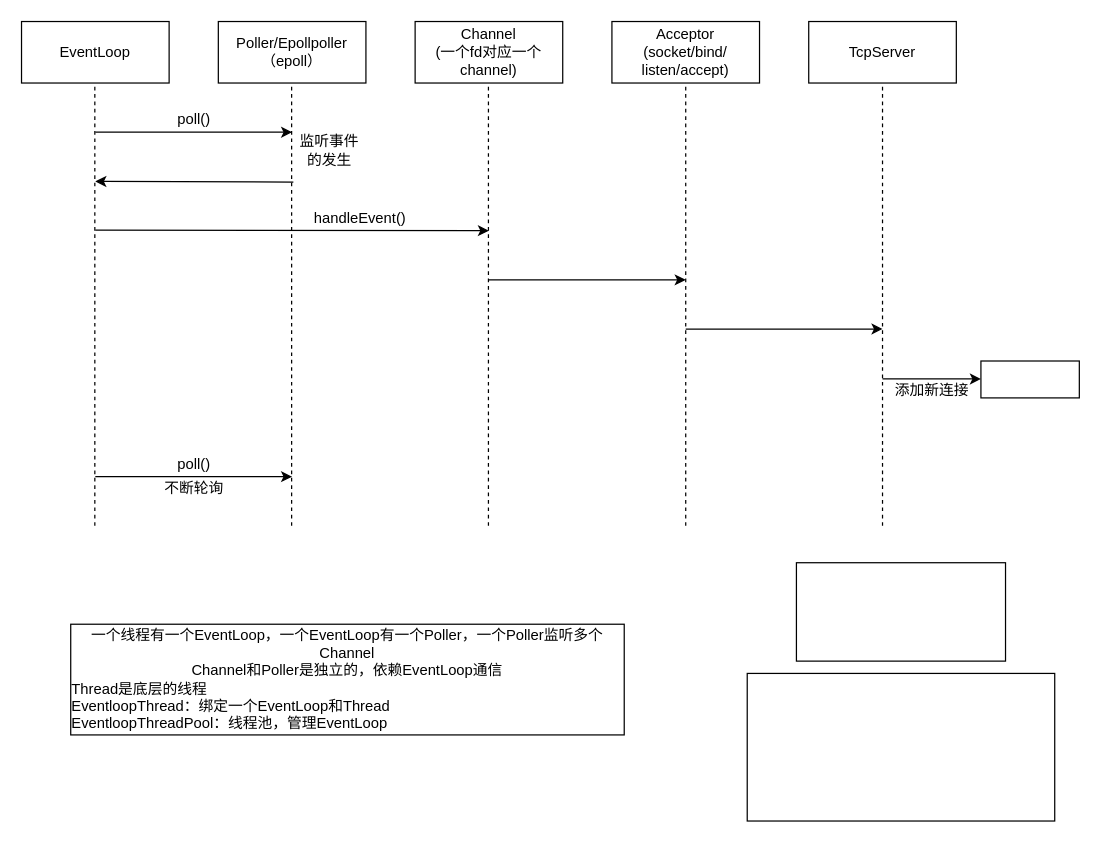
This 1101x843 diagram has some shape labels left out. The shapes that lost their labels are listed below. From the top down, each one's centre as x and y in pixels, then its label:
At point 1029,379: "TcpConnection".
At point 900,611: "Timestamp InetAddress Logger：日志类 noncopyable：不可拷贝的基类".
At point 900,746: "Socket：进行了socket/bind/listen/accept的封装 Buffer Callbacks CurrentThread".
